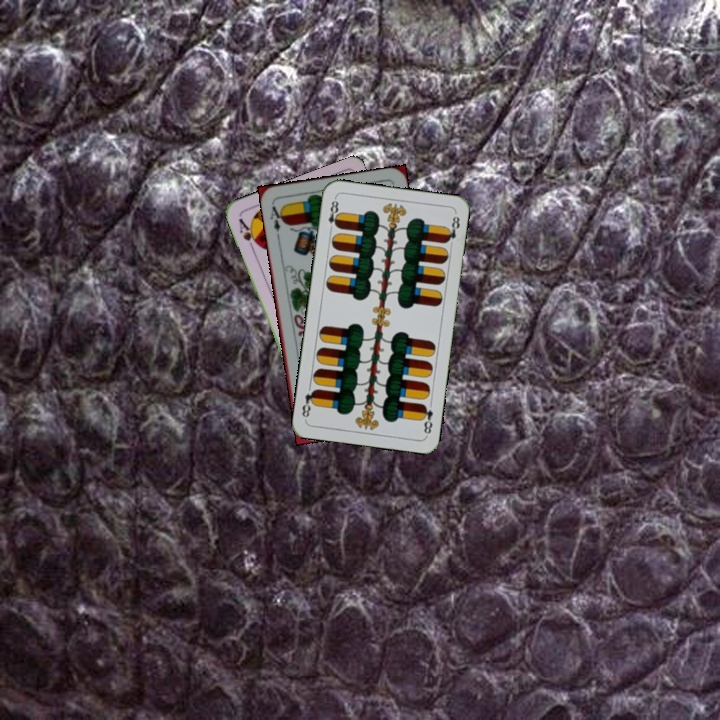E8: (324, 194, 342, 235), (417, 400, 435, 438)
EA: (266, 202, 287, 240)
SA: (235, 214, 261, 252)
